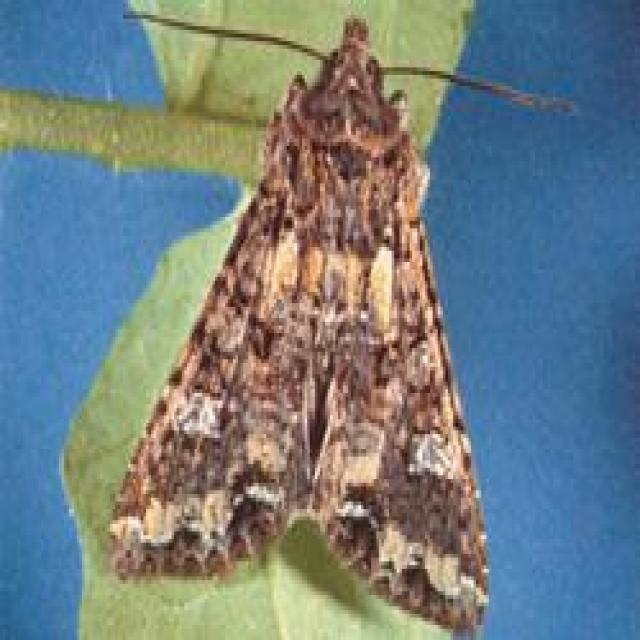BeetArmyWorm-Adult-: (109, 7, 508, 620)
